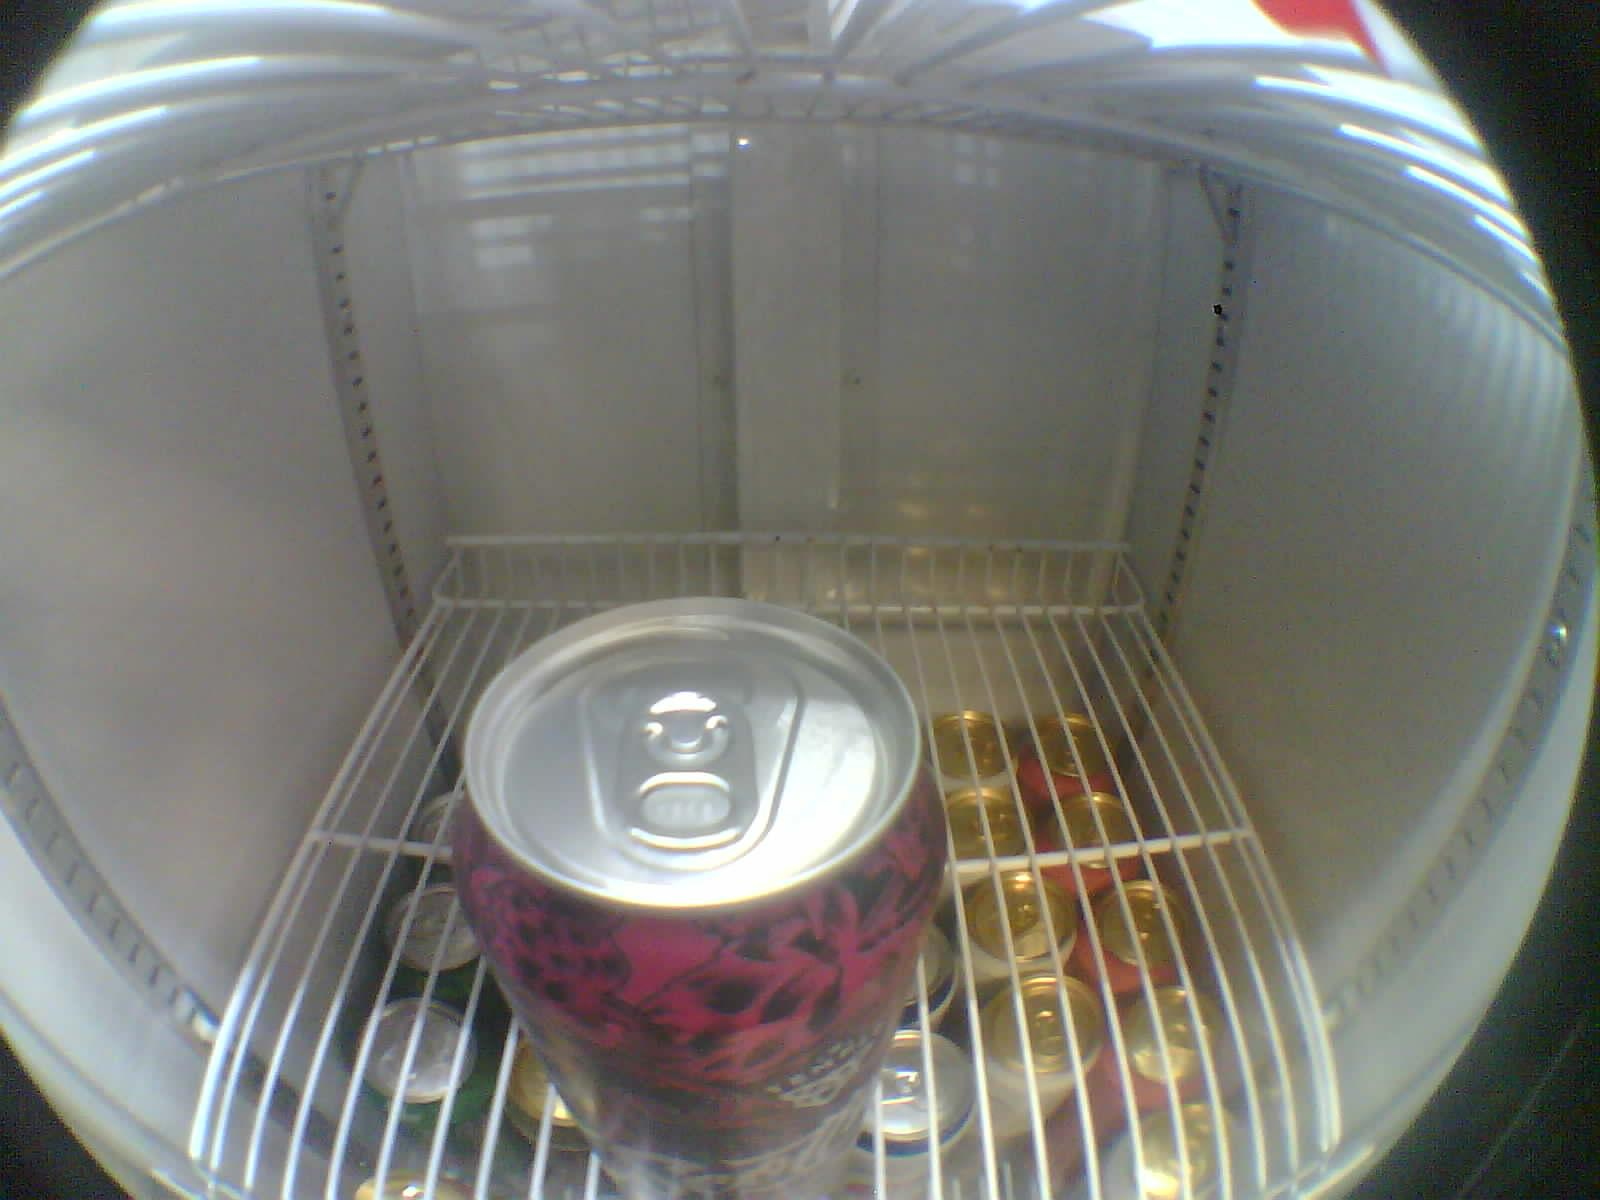metal: (193, 0, 1594, 1199), (454, 596, 946, 1192)
